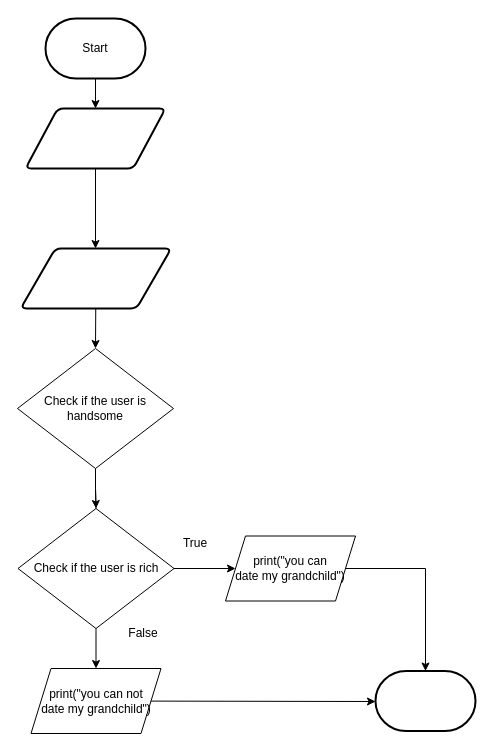
Some shapes in this 494 by 751 pixel diagram are drawn without their labels. The shapes that lost their labels are listed below. From the top down, each one's box as (x1, y1, x2, y2) in pixels, then its label:
(24, 107, 166, 169): Get wealth
(19, 247, 172, 309): Get looks
(374, 670, 476, 732): Stop
